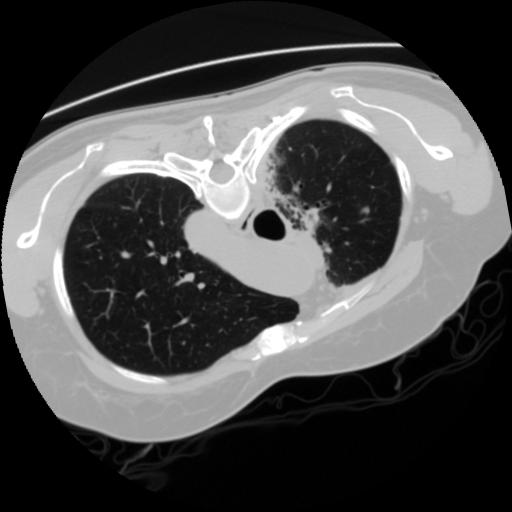nodule: (359, 204, 375, 220)
